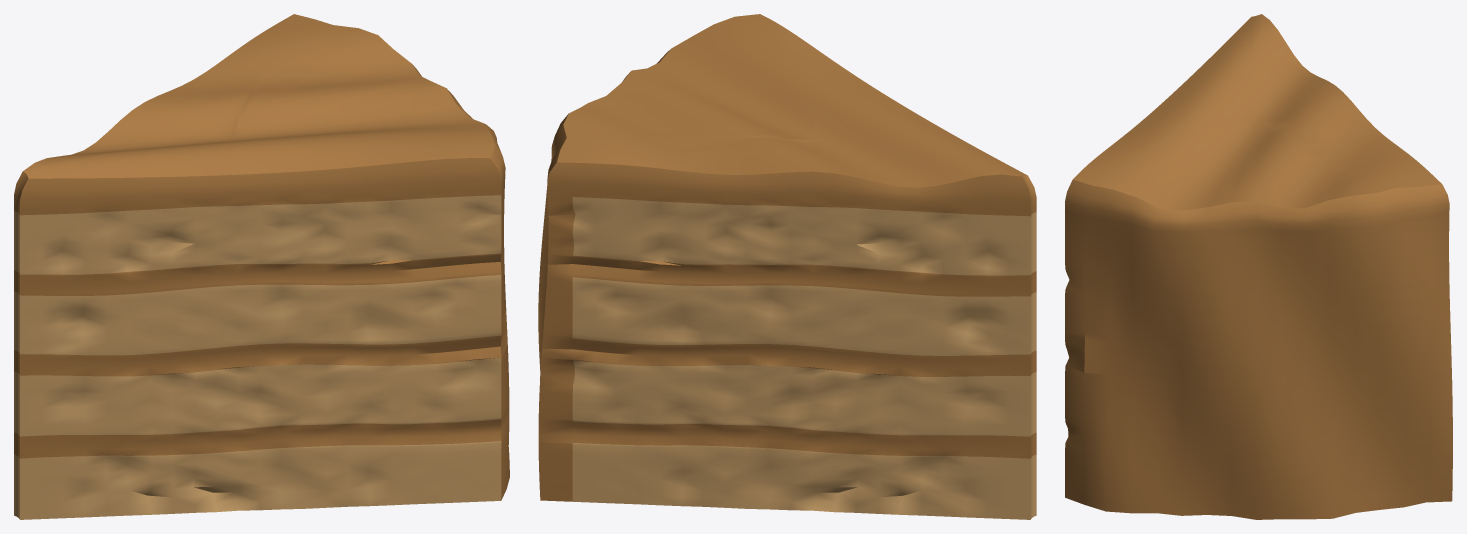
3 views of the same model, side by side, from view 1: azimuth 30°, elevation 25°; view 2: azimuth 150°, elevation 25°; view 3: azimuth 270°, elevation 25° (orthographic). The views are drawn at different scales.
Visible parts, largest first — view 1: Whole layer cake serving; view 2: Whole layer cake serving; view 3: Whole layer cake serving.
Part boxes in pixels (x1,y1,x2,y2): Whole layer cake serving: (14, 14, 509, 519); Whole layer cake serving: (538, 14, 1036, 519); Whole layer cake serving: (1065, 14, 1452, 519).
Bounding box in the file's own units: 0.1056 × 0.0802 × 0.0886.
